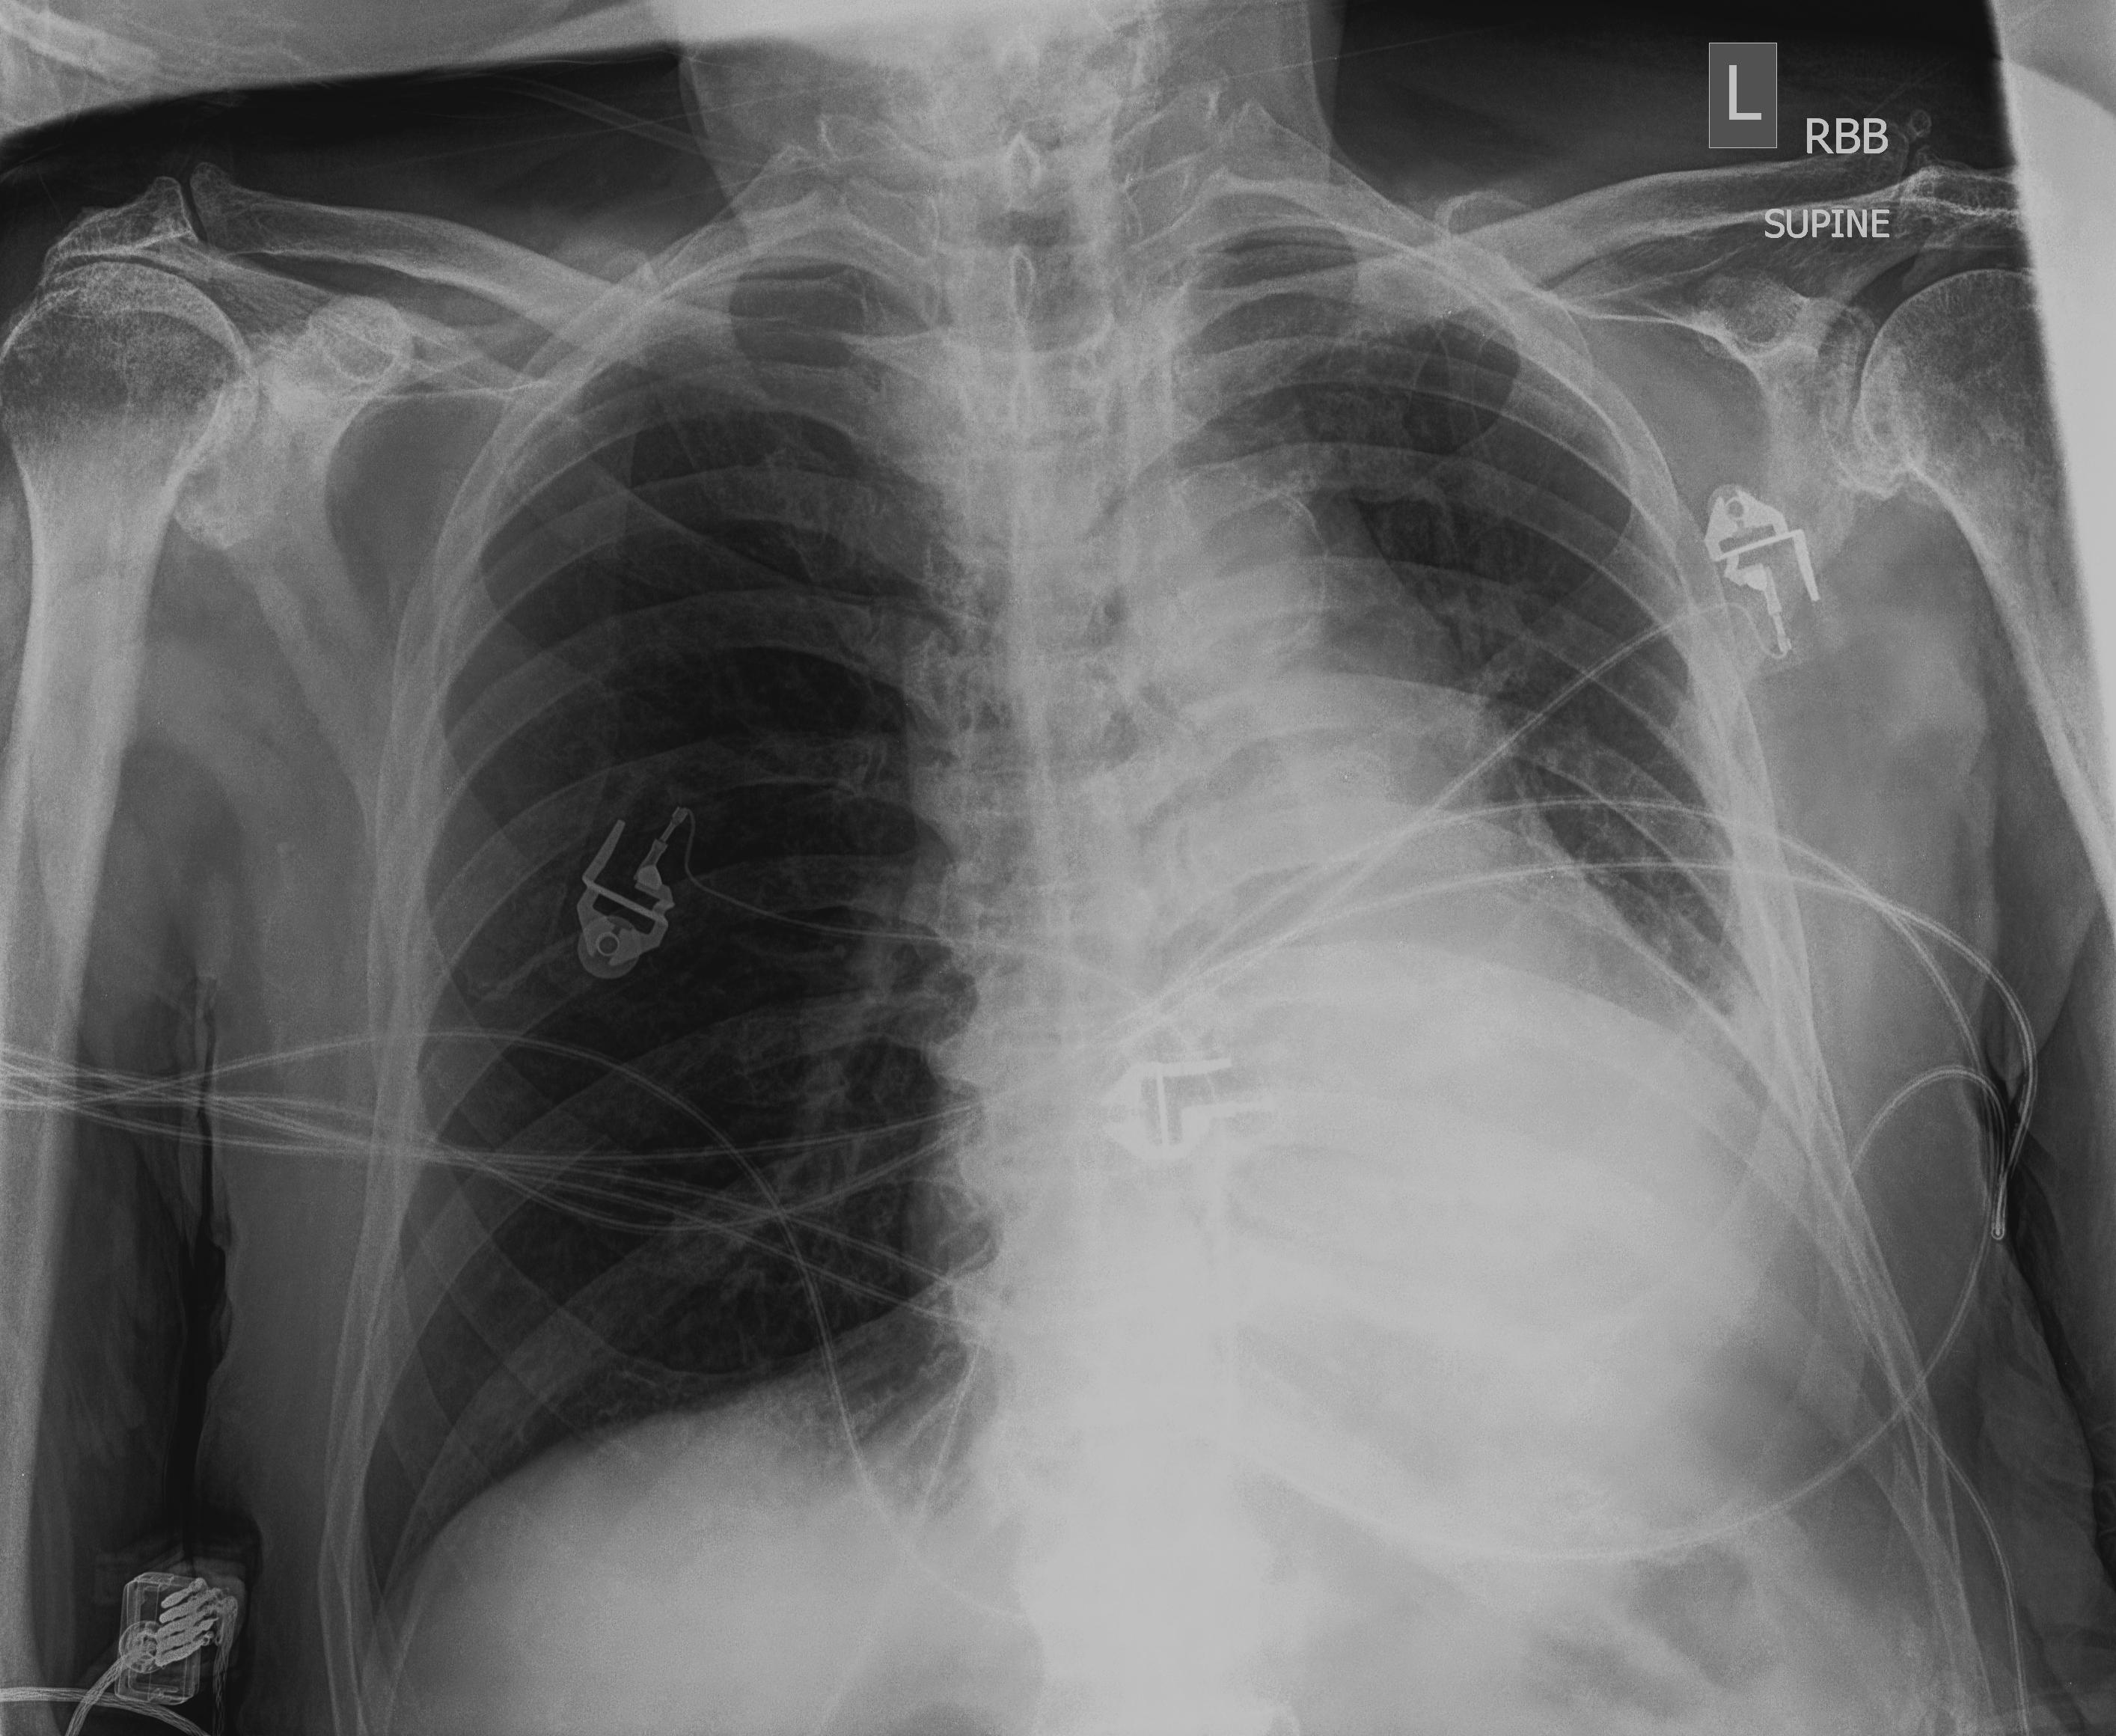Pleural Effusion: (1460, 933, 1842, 1453)
